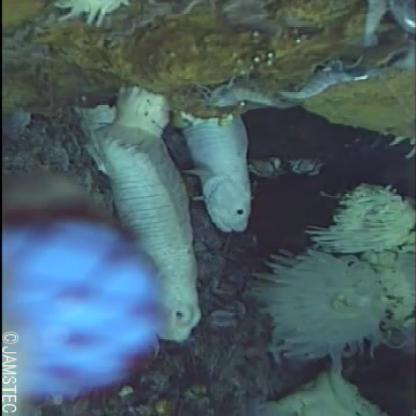Bio: (78, 86, 202, 346), (256, 244, 404, 376), (193, 50, 399, 114), (179, 112, 252, 236)
